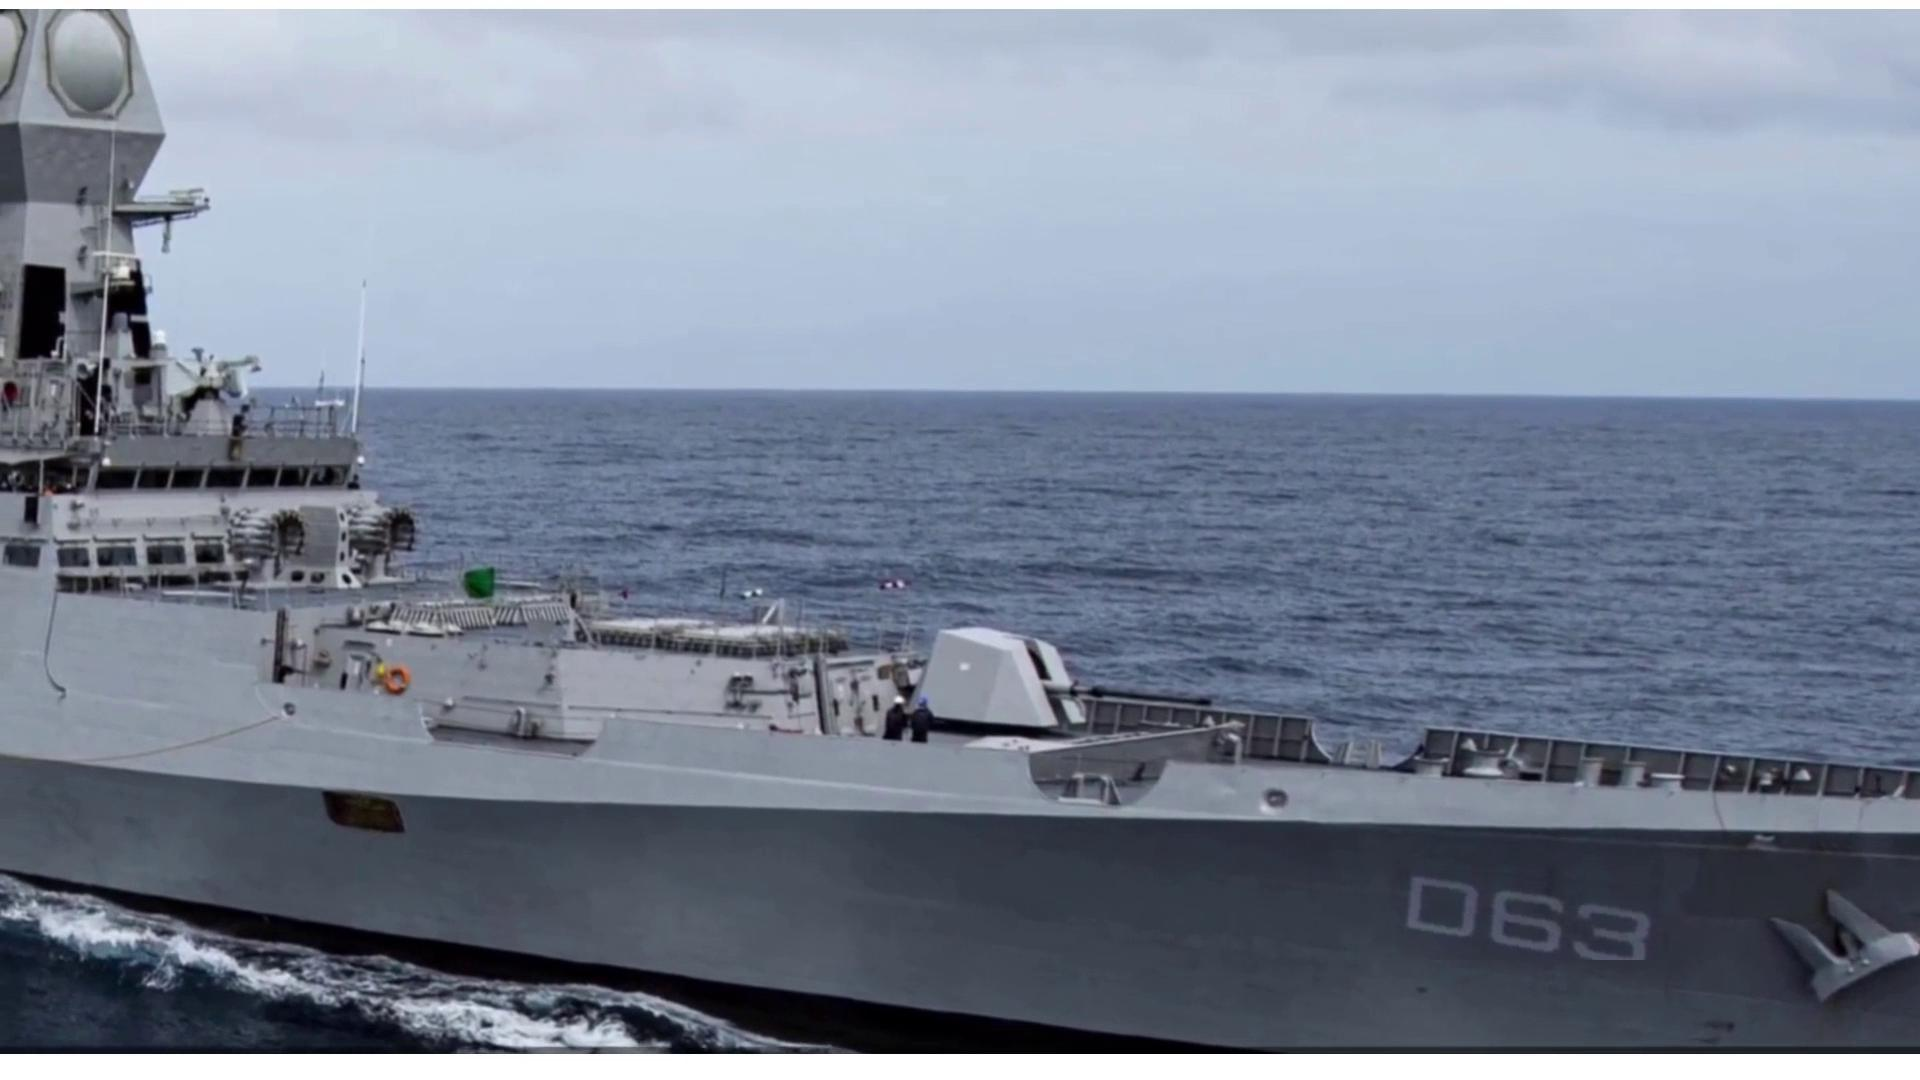OCR: (1394, 864, 1660, 960)
